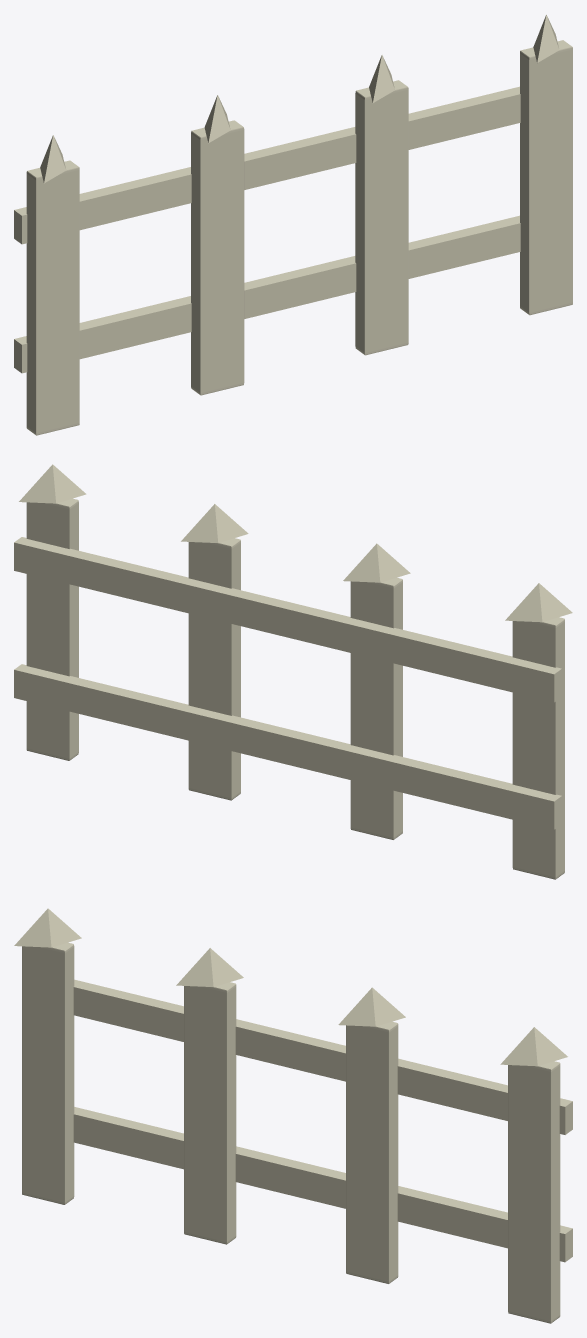
The model's file is fence.glb.
The picture shows the model from 3 angles, top to bottom: view 1: azimuth 30°, elevation 25°; view 2: azimuth 150°, elevation 25°; view 3: azimuth 330°, elevation 25°; orthographic projection.
Visible parts, largest first — view 1: Picket1, Picket2, Picket0, Picket3, RailTop, RailLow, PicketTip3, PicketTip0, PicketTip2, PicketTip1; view 2: RailTop, RailLow, Picket0, Picket1, Picket3, Picket2, PicketTip1, PicketTip3, PicketTip2, PicketTip0; view 3: Picket3, Picket2, Picket0, Picket1, RailLow, RailTop, PicketTip2, PicketTip0, PicketTip3, PicketTip1.
Boxes of the visible parts, box(x1,y1,x2,y2) form: Picket1: box(191, 120, 244, 395); Picket2: box(355, 80, 408, 355); Picket0: box(26, 160, 79, 435); Picket3: box(520, 40, 572, 315); RailTop: box(14, 86, 520, 244); RailLow: box(14, 215, 520, 373); PicketTip3: box(533, 14, 559, 62); PicketTip0: box(40, 135, 66, 183); PicketTip2: box(369, 55, 394, 102); PicketTip1: box(204, 95, 230, 143); RailTop: box(14, 537, 561, 702); RailLow: box(14, 664, 561, 829); Picket0: box(512, 617, 564, 879); Picket1: box(350, 577, 402, 839); Picket3: box(26, 498, 78, 760); Picket2: box(188, 538, 240, 800); PicketTip1: box(343, 543, 410, 582); PicketTip3: box(19, 464, 86, 503); PicketTip2: box(181, 504, 248, 542); PicketTip0: box(505, 583, 572, 622); Picket3: box(508, 1061, 560, 1323); Picket2: box(346, 1021, 398, 1283); Picket0: box(22, 942, 74, 1204); Picket1: box(184, 982, 236, 1244); RailLow: box(73, 1107, 572, 1262); RailTop: box(73, 979, 572, 1134); PicketTip2: box(338, 987, 405, 1026); PicketTip0: box(14, 908, 81, 947); PicketTip3: box(500, 1027, 567, 1066); PicketTip1: box(176, 948, 243, 986).
Size of the model in its own units: 2 by 1.02 by 0.1598.
